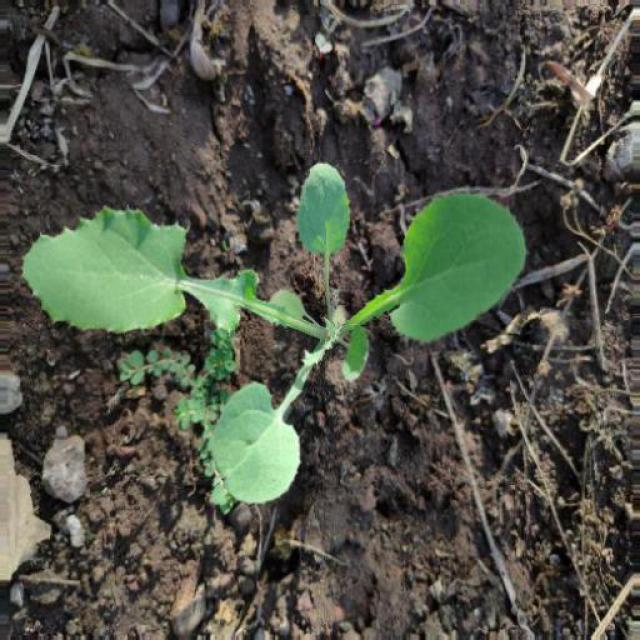weed: (20, 142, 554, 520)
